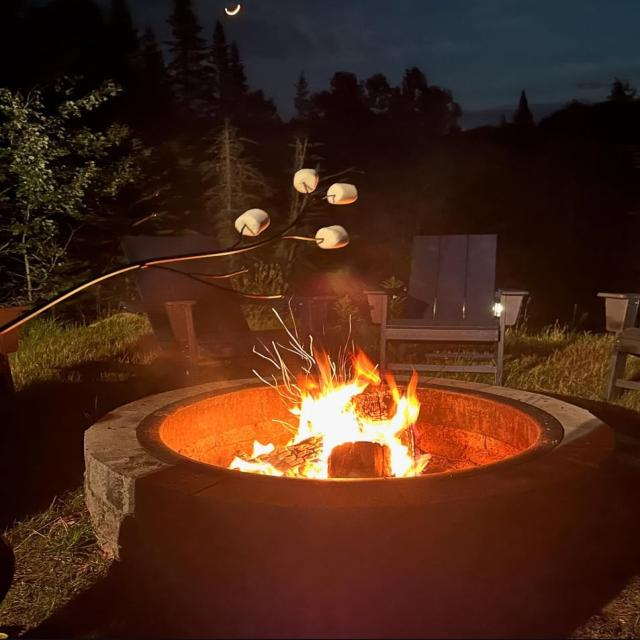fire: (286, 345, 420, 479)
